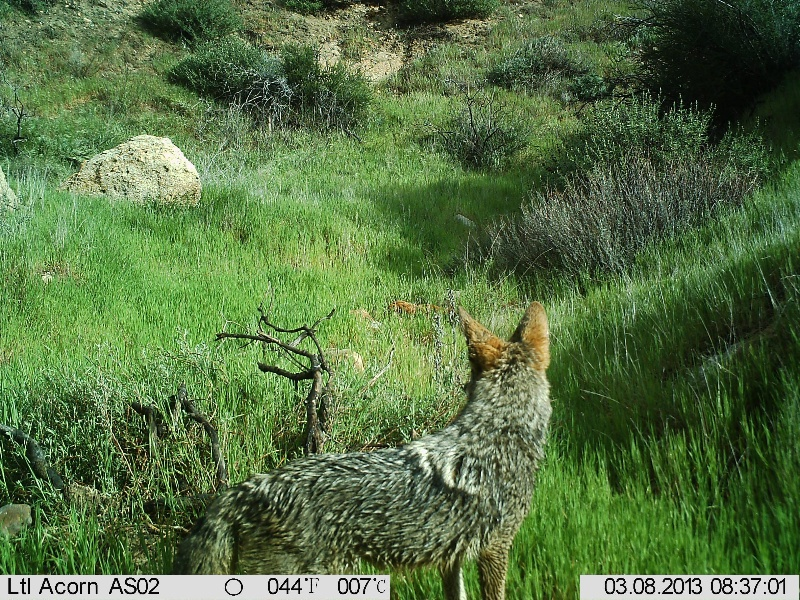coyote: (184, 301, 553, 598)
